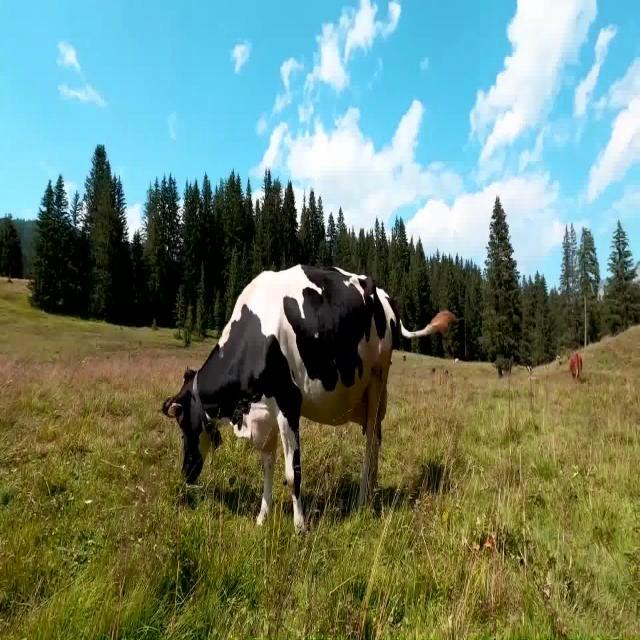cow: (162, 265, 454, 530)
